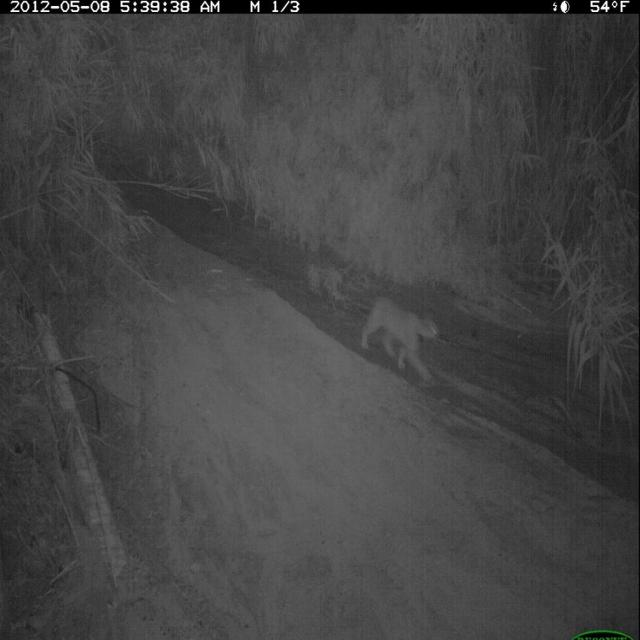bobcat: (359, 291, 445, 387)
